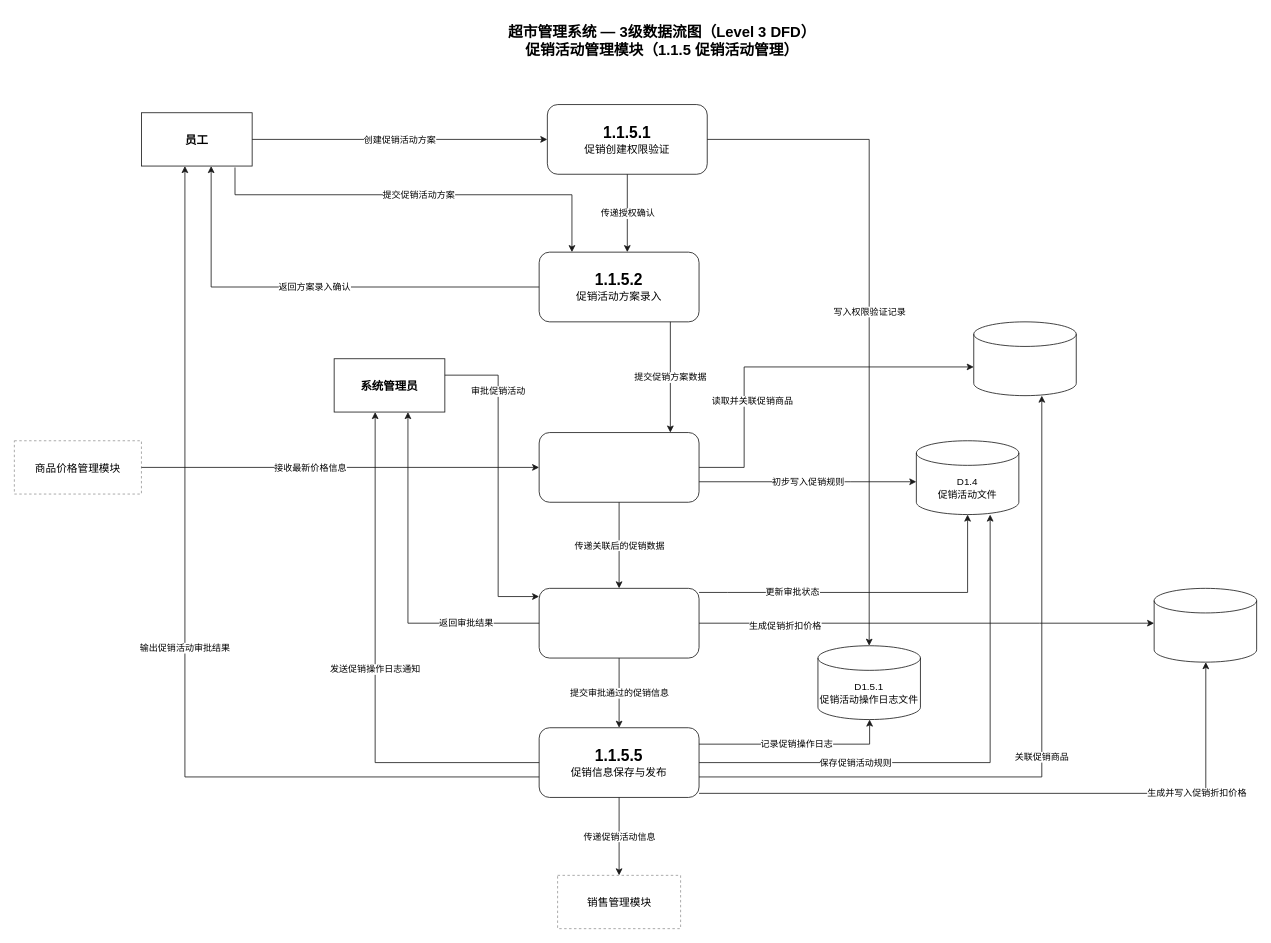
The diagram is 1271 pixels wide and 943 high, and some of its shapes have lost their labels. Here are the shapes that lost their labels. From the top down, the centre of each, then its label:
At point (1024, 358): "D1.1 商品基本信息文件".
At point (618, 467): "1.1.5.3 促销规则与商品关联".
At point (618, 623): "1.1.5.4 促销审批与折扣计算".
At point (1205, 625): "D1.3 商品价格文件".
